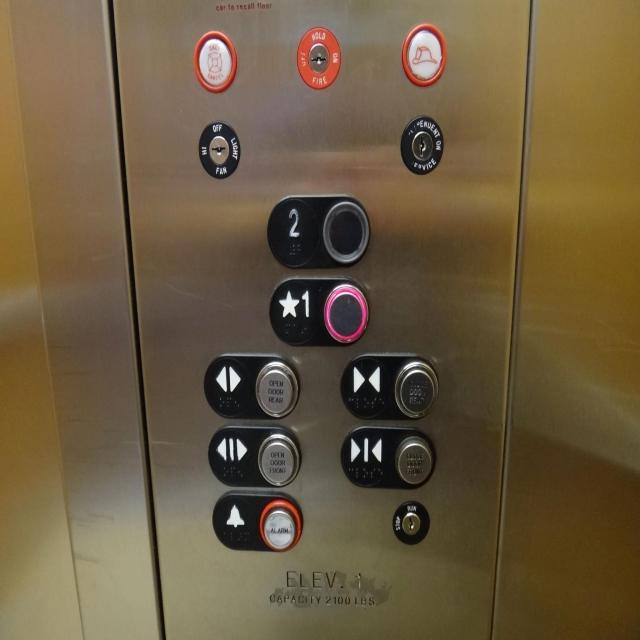2: (263, 192, 375, 271)
alarm: (207, 488, 306, 554)
close: (337, 351, 441, 422), (336, 424, 441, 492)
keyhole: (294, 23, 344, 92), (397, 112, 447, 180), (195, 117, 243, 183), (390, 497, 432, 548)
open: (198, 350, 302, 422), (203, 422, 304, 490)
s1: (264, 272, 374, 352)
unknown: (399, 20, 449, 90), (190, 28, 240, 97)
